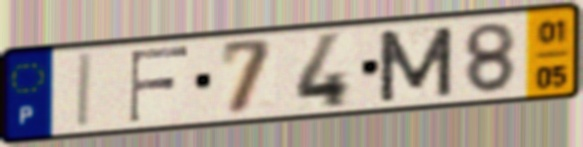4: (291, 29, 356, 111)
7: (216, 35, 280, 119)
8: (458, 20, 521, 95)
F: (125, 43, 192, 126)
I: (73, 50, 97, 131)
M: (374, 23, 457, 105)
